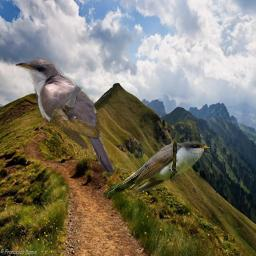Cuckoo: (13, 55, 114, 177), (99, 139, 210, 197)
